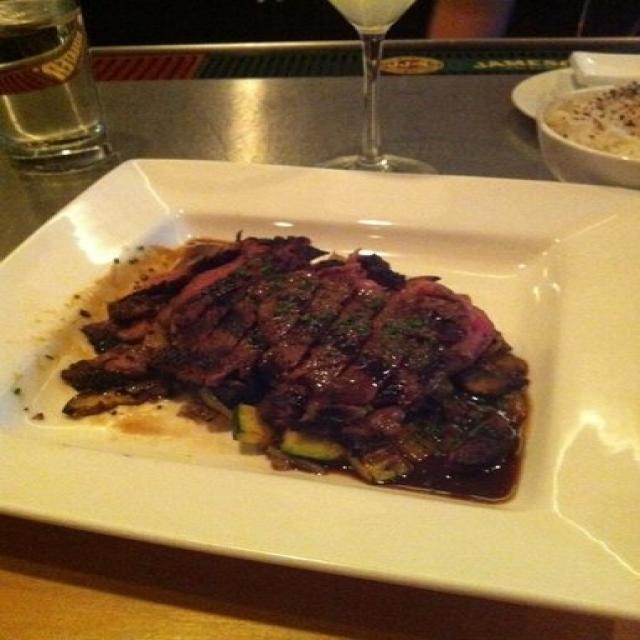Steak: (74, 237, 540, 512)
